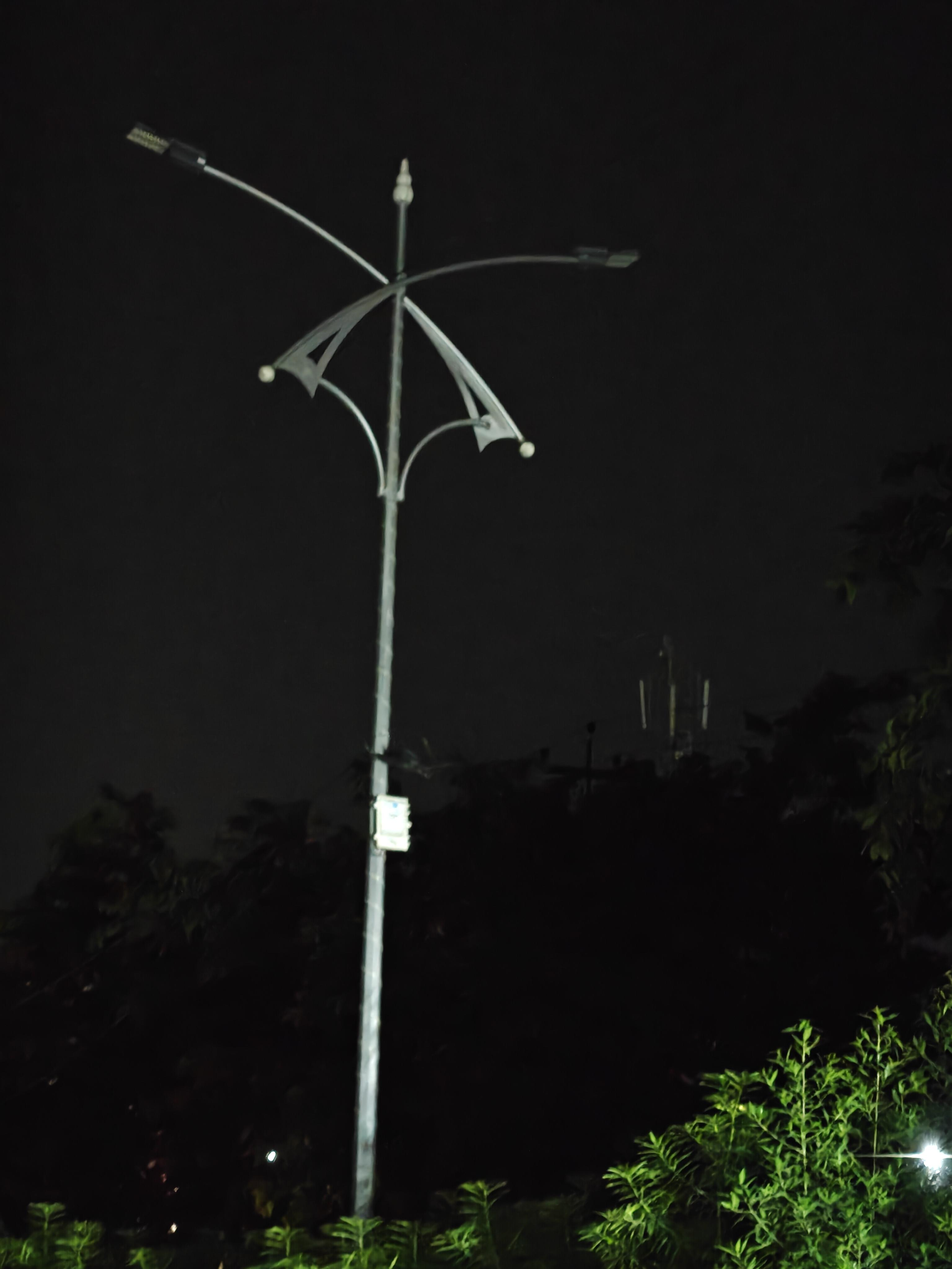streetlight: (121, 116, 378, 287), (426, 240, 642, 277)
